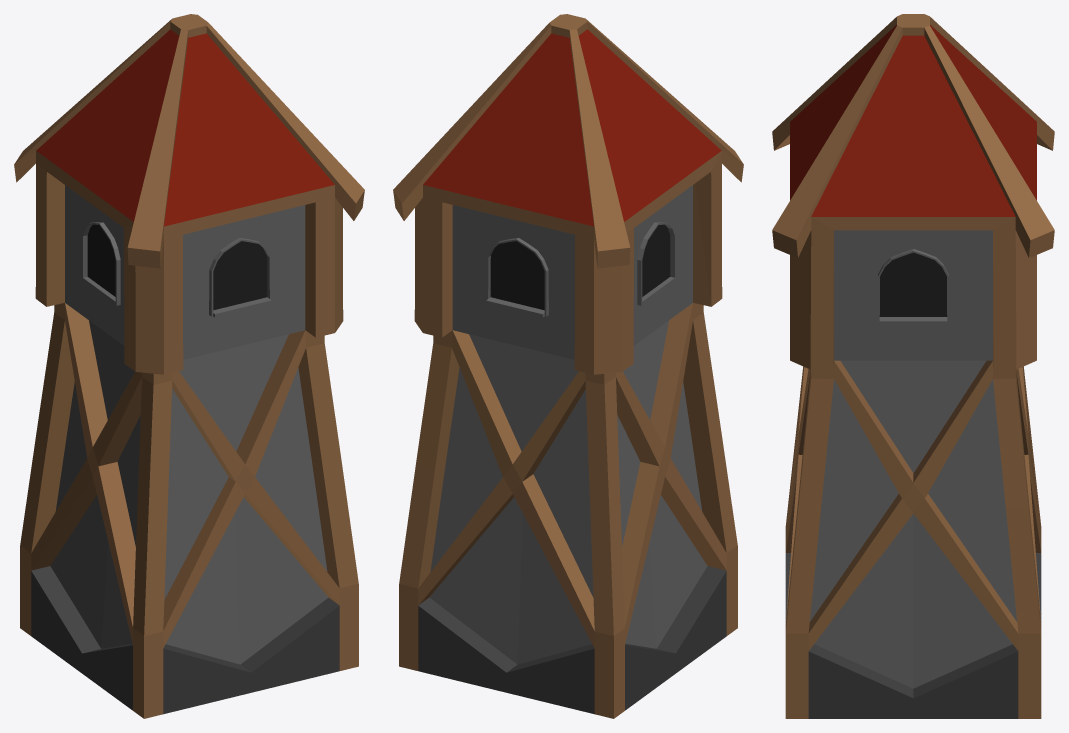
File: ATT2.fbx
3 renders of one model, left to right at view 1: azimuth 30°, elevation 25°; view 2: azimuth 150°, elevation 25°; view 3: azimuth 270°, elevation 25°, orthographic. The views are drawn at different scales.
Visible parts, largest first — view 1: Tower; view 2: Tower; view 3: Tower.
Part boxes in pixels (x1,y1,x2,y2): Tower: [14, 14, 364, 718]; Tower: [393, 14, 743, 718]; Tower: [772, 14, 1054, 718].
Size of the model in its own units: 777 by 1956 by 778.
